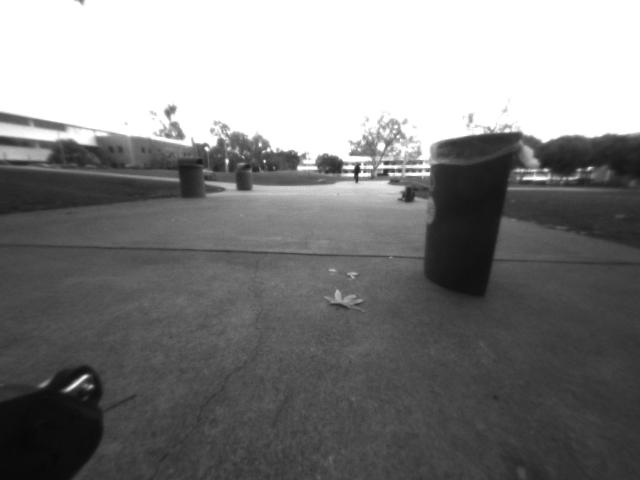trashcan: (421, 131, 519, 312)
